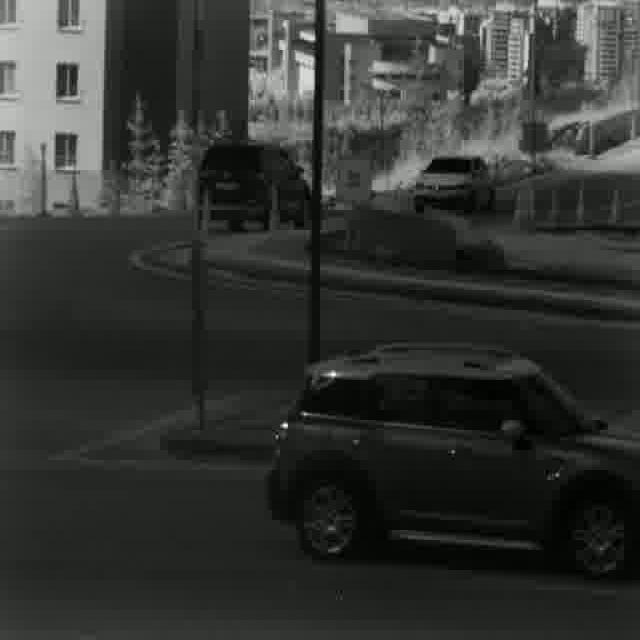Car: (265, 340, 640, 572), (190, 137, 313, 228), (414, 152, 498, 216)
